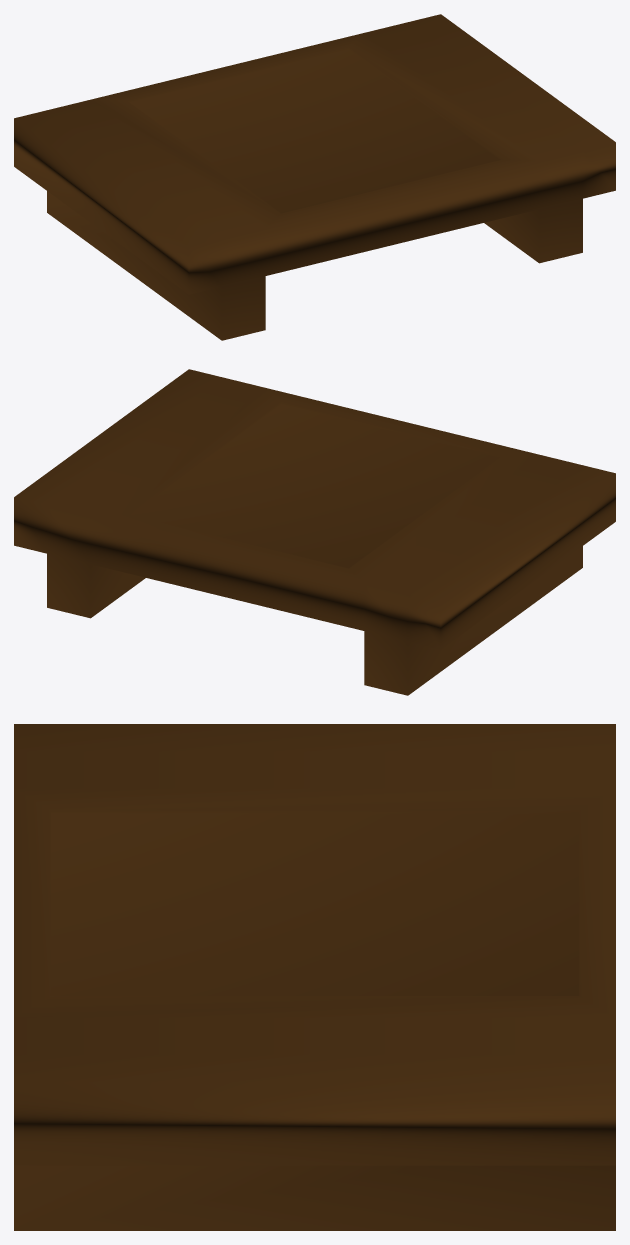
File: Coffe_Table.glb
The picture shows the model from 3 angles, top to bottom: view 1: azimuth 30°, elevation 25°; view 2: azimuth 150°, elevation 25°; view 3: azimuth 270°, elevation 25°; orthographic projection. The views are drawn at different scales.
Visible parts, largest first — view 1: Cube.001; view 2: Cube.001; view 3: Cube.001.
Boxes of the visible parts, x1,y1,x2,y2 form: Cube.001: [14, 14, 615, 340]; Cube.001: [14, 369, 615, 695]; Cube.001: [14, 724, 615, 1230].
Size of the model in its own units: 1.86 by 0.4265 by 1.32.
